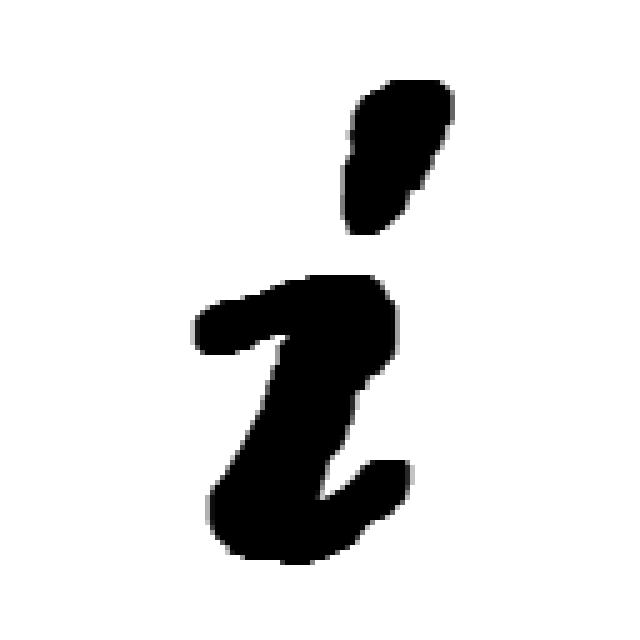I: (187, 72, 435, 567)
